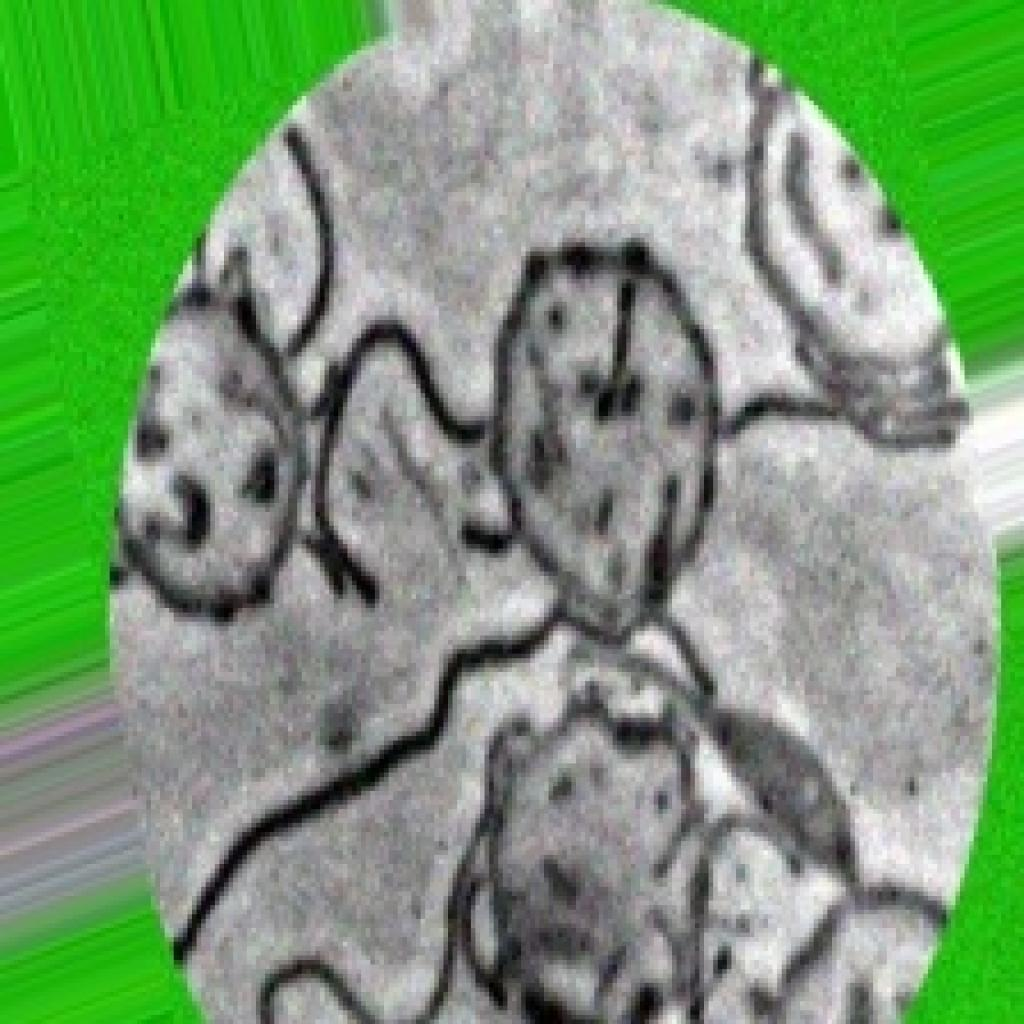Sprialbacteria: (105, 0, 992, 1019)
